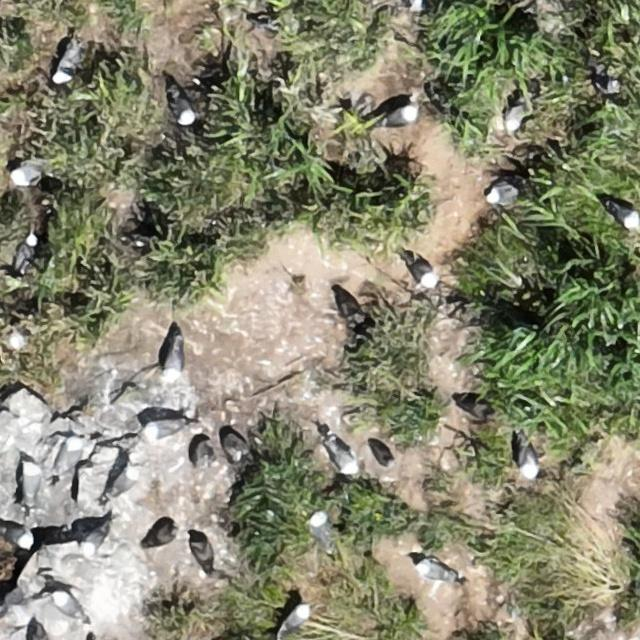umineko: (53, 436, 83, 482), (80, 521, 111, 562), (111, 467, 139, 505), (23, 456, 41, 511), (329, 440, 356, 472), (409, 258, 437, 288), (56, 44, 80, 79), (308, 514, 330, 552), (610, 202, 639, 228), (283, 605, 310, 632), (383, 106, 419, 126), (172, 93, 195, 124), (10, 162, 40, 185), (418, 563, 452, 583), (489, 183, 518, 206), (15, 232, 35, 265), (519, 446, 537, 478), (5, 528, 33, 548), (54, 592, 77, 616), (165, 345, 182, 377), (148, 420, 181, 436), (408, 0, 426, 10)
